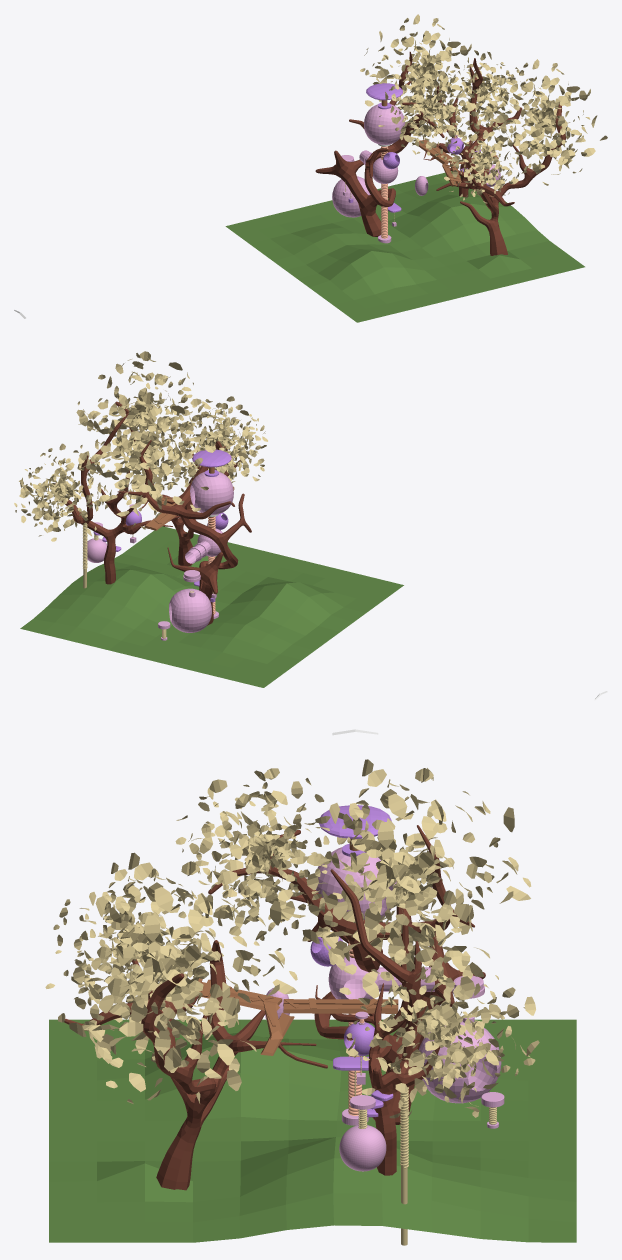
The model's file is CITYOFCATT.glb.
The picture shows the model from 3 angles, top to bottom: view 1: azimuth 30°, elevation 25°; view 2: azimuth 150°, elevation 25°; view 3: azimuth 270°, elevation 25°; orthographic projection. The views are drawn at different scales.
Parts seen in each view (by area): view 1: Plan, Plane.005, Plane.001, ArbreTronc1, Plane.003, Plane.002, Plane.006, Plane.004, Cocon3, Arbre2Tronc, HOUSE 1.010, Plateforme2 (+1 smaller); view 2: Plan, Plane.001, Plane.005, ArbreTronc1, Plane.004, Plane.003, Arbre2Tronc, HOUSE 1.010, Cocon3, Plane.006, Plane.002, Plateforme2; view 3: Plan, Plane.005, Plane.001, Plane.004, Plane.003, Plane.002, Arbre2Tronc, ArbreTronc1, Plane.006, HOUSE 1.010, HOUSE 1.000, Cocon3 (+4 smaller).
Part boxes in pixels (box(x1,y1,x2,y2)): Plan: box(225, 171, 584, 322); Plane.005: box(479, 59, 607, 185); Plane.001: box(360, 14, 488, 140); ArbreTronc1: box(315, 51, 444, 236); Plane.003: box(378, 68, 465, 156); Plane.002: box(436, 102, 565, 255); Plane.006: box(441, 119, 526, 203); Plane.004: box(441, 50, 528, 137); Cocon3: box(364, 104, 405, 144); Arbre2Tronc: box(423, 58, 522, 197); HOUSE 1.010: box(332, 176, 370, 217); Plateforme2: box(366, 83, 402, 100); Plan: box(20, 526, 403, 687); Plane.001: box(79, 394, 213, 529); Plane.005: box(76, 351, 210, 484); ArbreTronc1: box(117, 440, 251, 625); Plane.004: box(14, 443, 108, 541); Plane.003: box(167, 396, 265, 487); Arbre2Tronc: box(55, 413, 180, 584); HOUSE 1.010: box(169, 588, 211, 632); Cocon3: box(190, 472, 233, 514); Plane.006: box(178, 403, 267, 482); Plane.002: box(115, 401, 240, 566); Plateforme2: box(192, 449, 231, 467); Plan: box(49, 1019, 576, 1242); Plane.005: box(45, 852, 297, 1103); Plane.001: box(282, 759, 531, 1010); Plane.004: box(346, 942, 539, 1118); Plane.003: box(175, 768, 350, 950); Plane.002: box(64, 940, 327, 1190); Arbre2Tronc: box(315, 869, 440, 1175); ArbreTronc1: box(208, 825, 485, 1124); Plane.006: box(55, 862, 223, 1030); HOUSE 1.010: box(419, 1021, 501, 1103); HOUSE 1.000: box(339, 1125, 386, 1171); Cocon3: box(316, 847, 396, 919).
Size of the model in its own units: 19.16 by 7.21 by 8.25.
